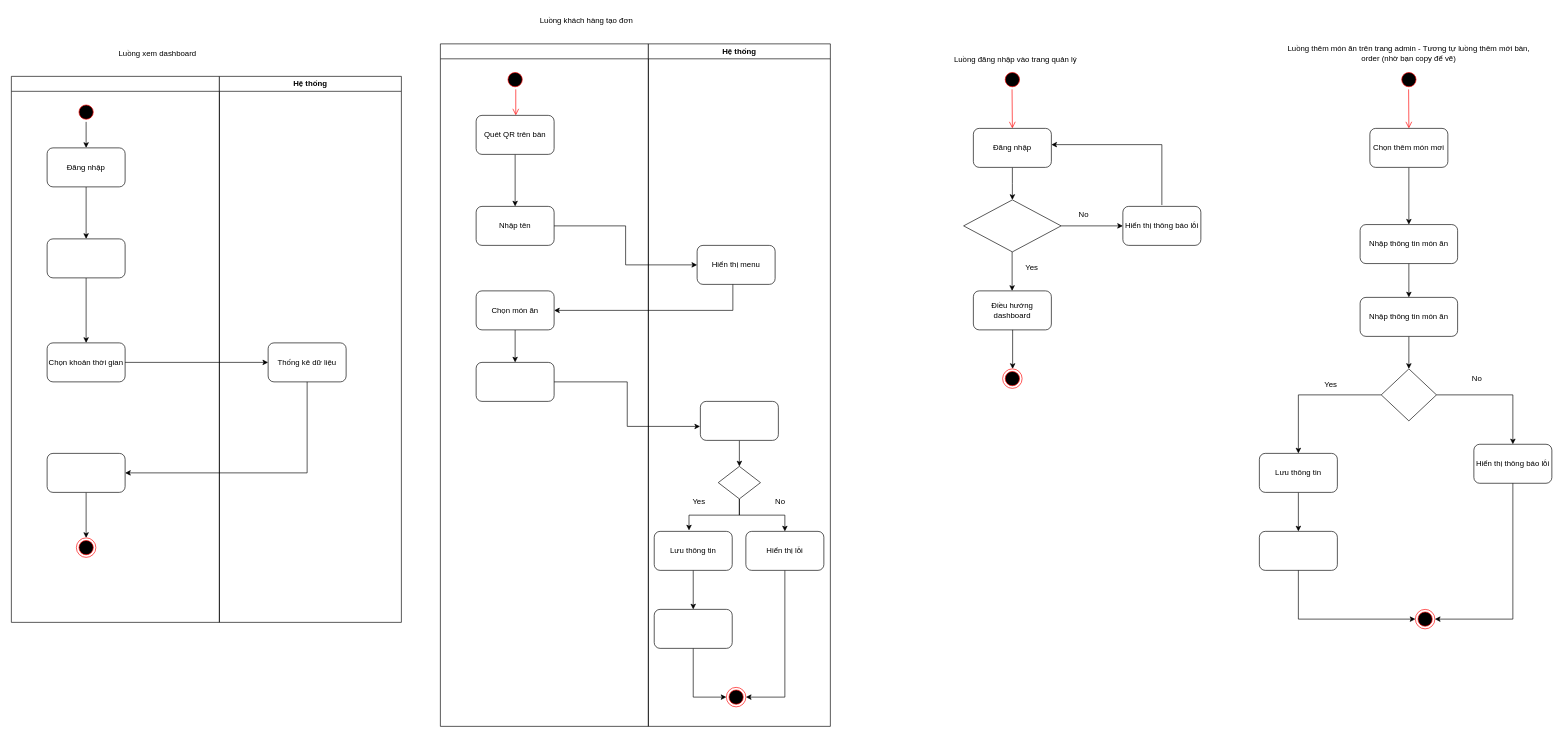
This 1563x738 diagram has some shape labels left out. Each missing label, with the box of its shape:
Chuyển hướng đến màn hình dashboard: (46, 238, 125, 278)
Hiển thị các chỉ số: (46, 453, 125, 492)
Hiển thị thông báo thành công: (1259, 531, 1337, 570)
Hiển thị xác nhận đơn hàng: (654, 609, 732, 648)
Khách hàng: (440, 43, 648, 726)
Kiểm tra thông tin đơn hàng: (700, 401, 778, 440)
Nhân viên/Chủ cửa hàng: (11, 76, 219, 622)
Thông tin hợp lệ: (963, 199, 1061, 252)
Xác nhận đơn hàng: (475, 362, 554, 401)
